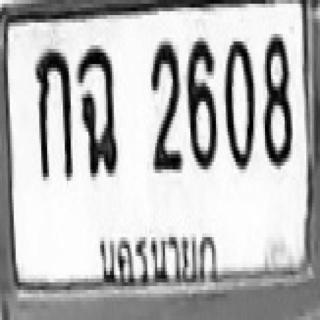A01: (33, 45, 71, 177)
A09: (77, 43, 116, 175)
N00: (223, 36, 254, 168)
N02: (149, 38, 181, 169)
N06: (184, 34, 216, 166)
N08: (261, 32, 290, 164)
P27: (91, 217, 222, 289)
